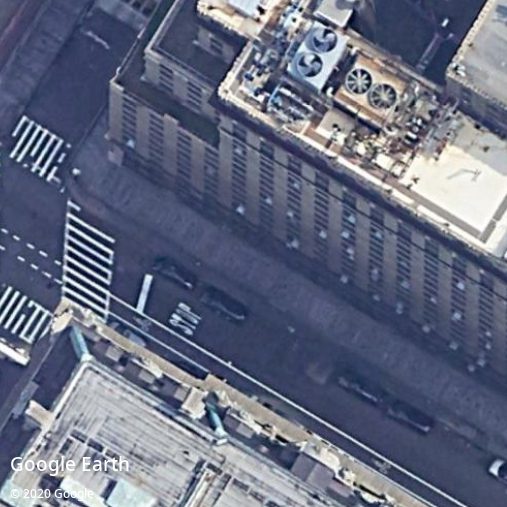Vent: (345, 68, 372, 94), (371, 83, 397, 109), (312, 27, 337, 53), (297, 53, 322, 78)
